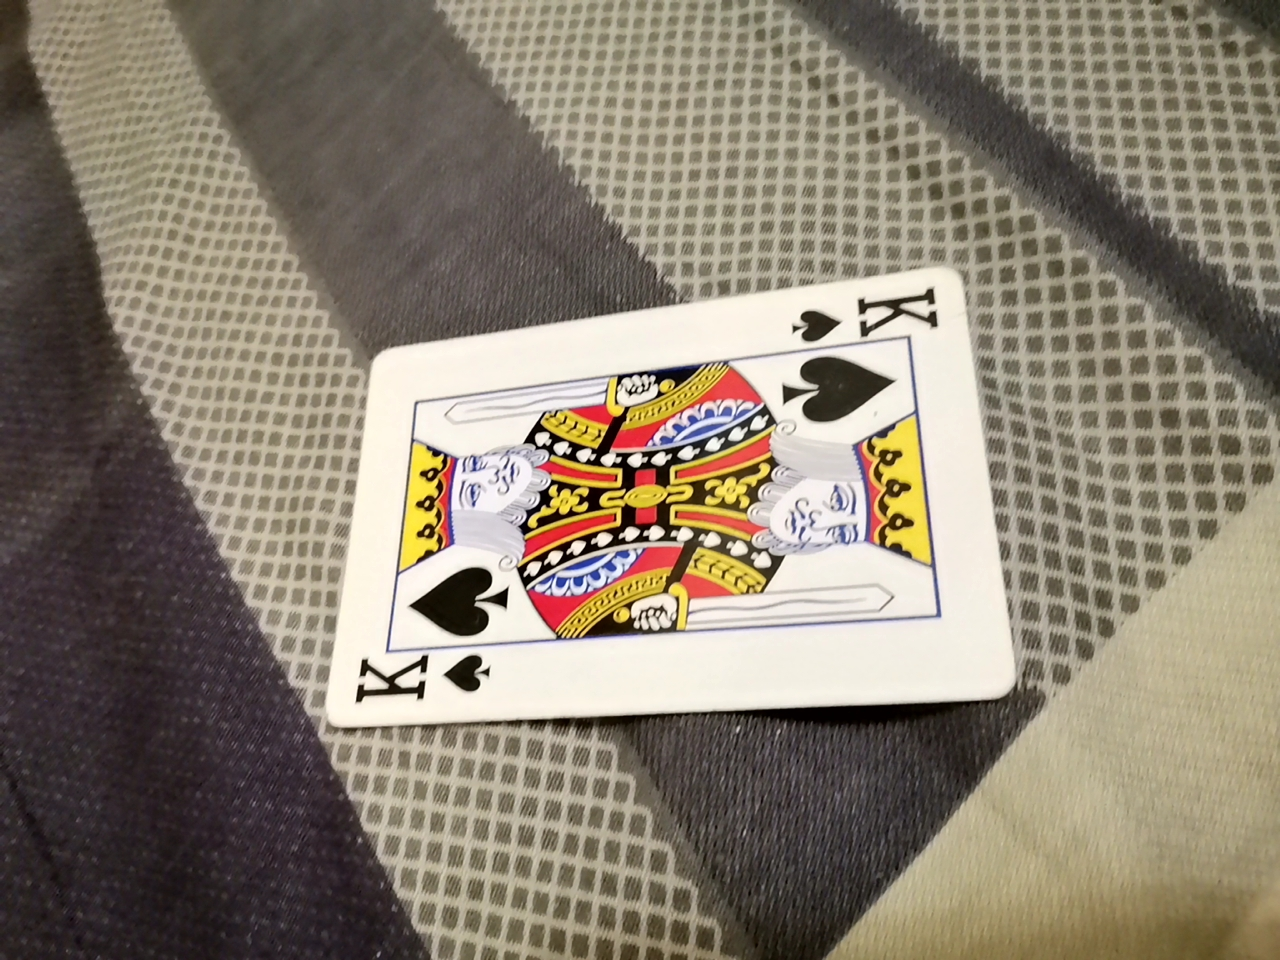ht k: (319, 246, 997, 712)
